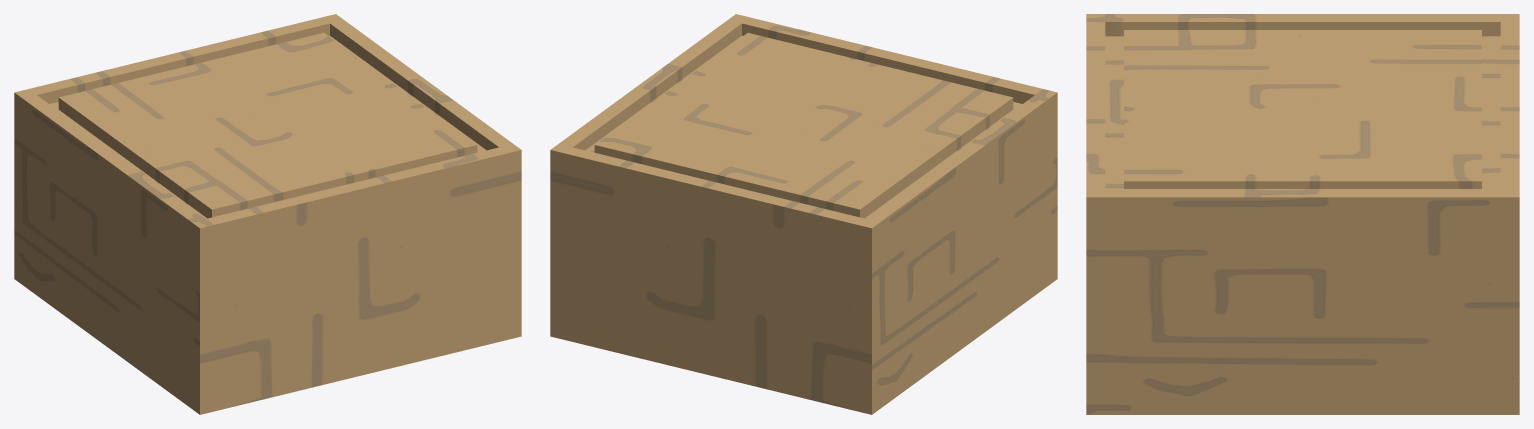
Rendered from Mesh_Platform_Small.glb.
3 renders of one model, left to right at view 1: azimuth 30°, elevation 25°; view 2: azimuth 150°, elevation 25°; view 3: azimuth 270°, elevation 25°, orthographic. The views are drawn at different scales.
Visible parts, largest first — view 1: Cube.034; view 2: Cube.034; view 3: Cube.034.
Boxes of the visible parts, x1,y1,x2,y2 form: Cube.034: [14, 14, 521, 414]; Cube.034: [550, 14, 1057, 414]; Cube.034: [1086, 14, 1519, 414].
Bounding box in the file's own units: 12.63 × 7 × 12.63.
1 material, 1 textured.
